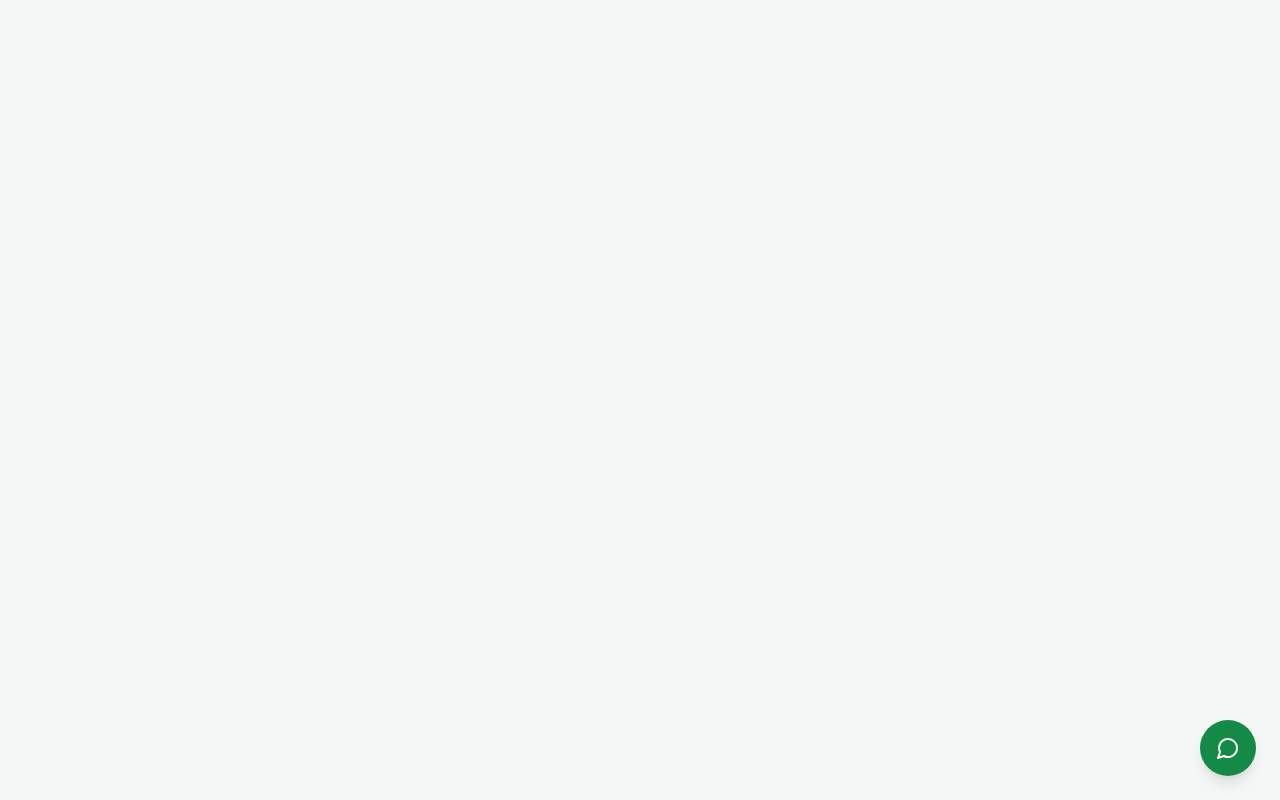
Test case: Recipe chat › sends a starter idea with how the recipe is shown, and shows the answer
Later steps or results of the test are not shown.
Click the button named "Open recipe chat": point(1228, 748) 1200,720 -> 1256,776
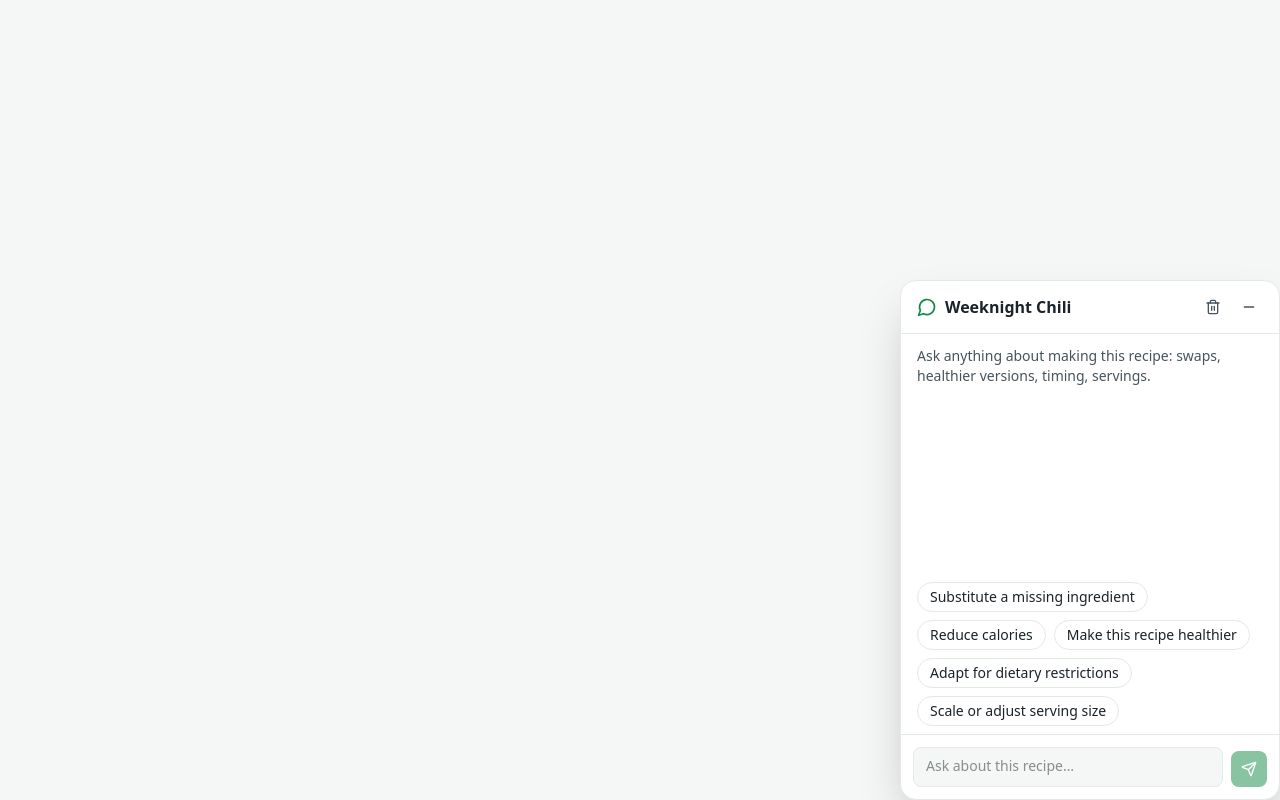
Click the button "Reduce calories": point(981, 635) 917,620 -> 1046,650
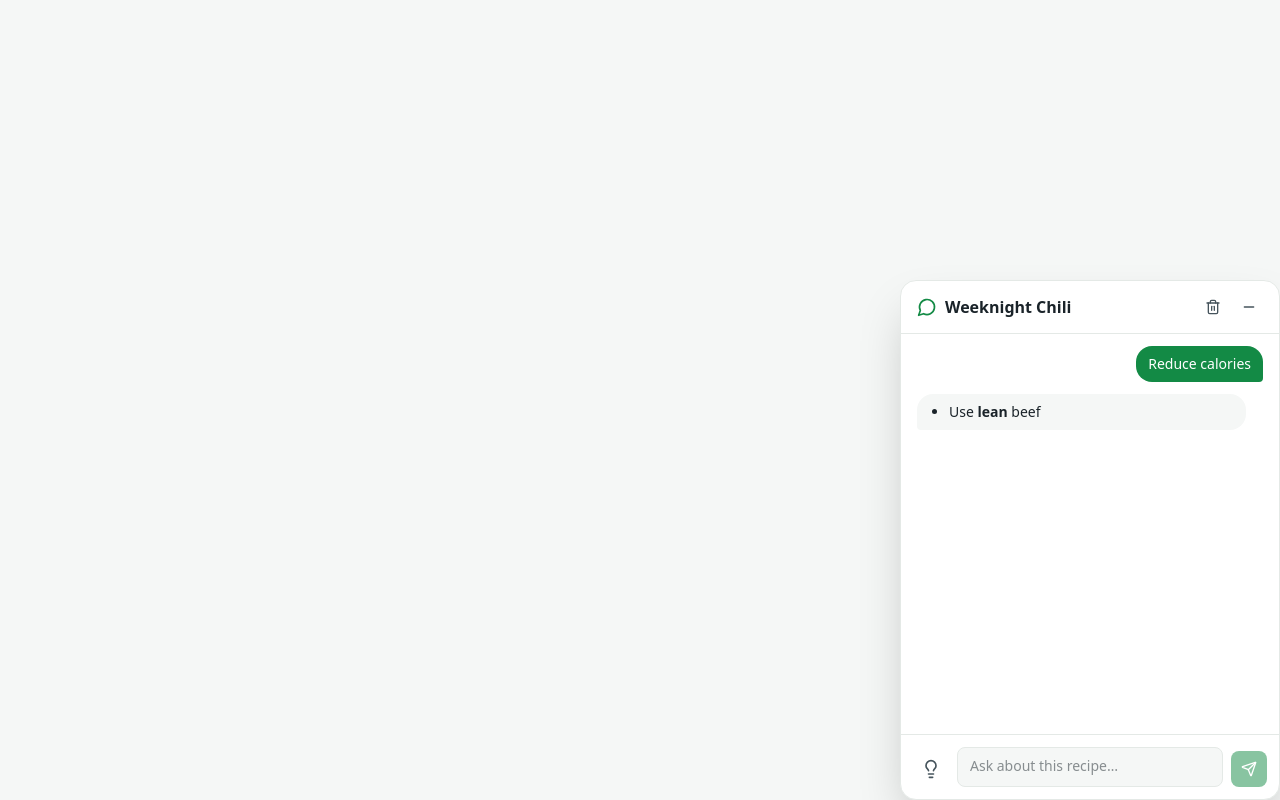
Result: the button named "Send" is disabled at 1231,751 -> 1267,787
Result: the text "lean" is shown at 978,402 -> 1008,421
